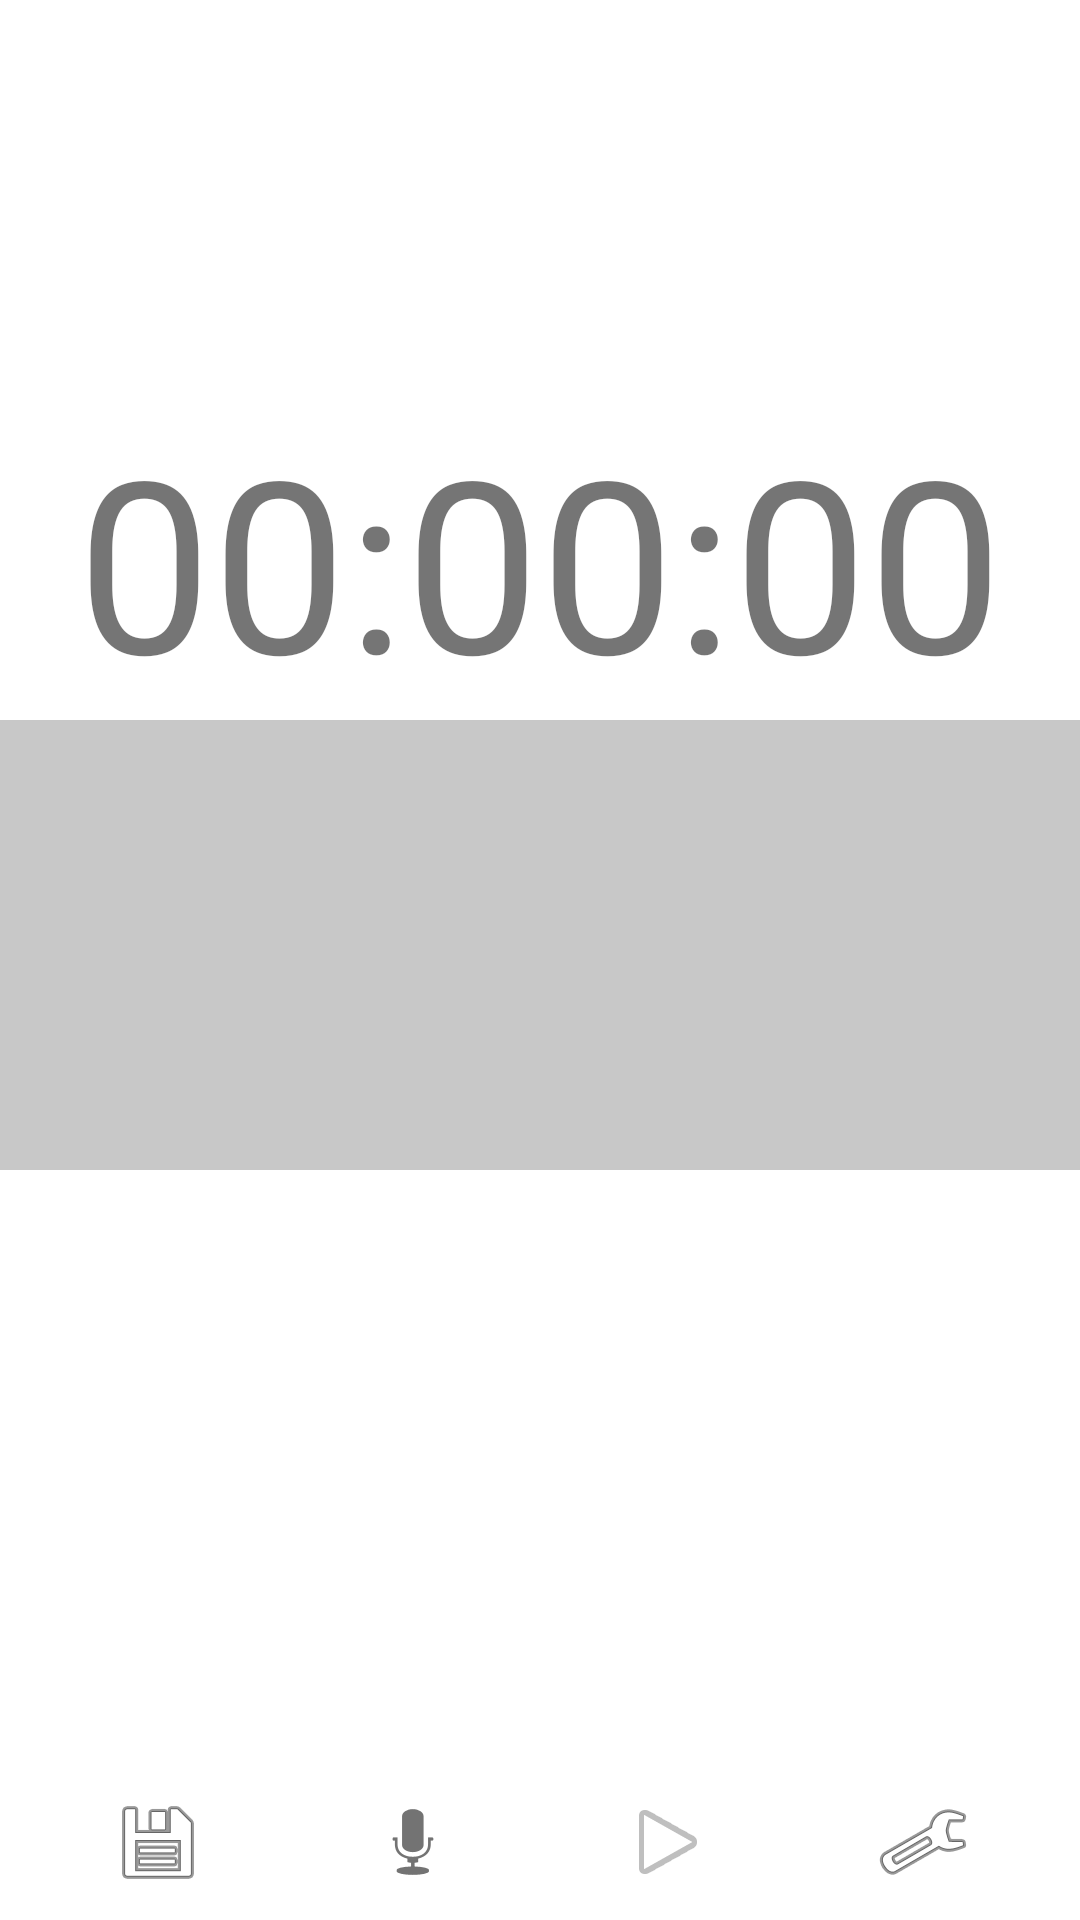

Icon bounding boxes for this 1080×1920 phone screenshot, format {"x1": x1, "y1": y1, "x2": x2, "y2": y2}:
Запись: {"x1": 392, "y1": 1809, "x2": 434, "y2": 1875}
Настройки: {"x1": 880, "y1": 1809, "x2": 966, "y2": 1875}
Прослушать: {"x1": 639, "y1": 1810, "x2": 697, "y2": 1874}
Сохранить: {"x1": 122, "y1": 1806, "x2": 194, "y2": 1879}
